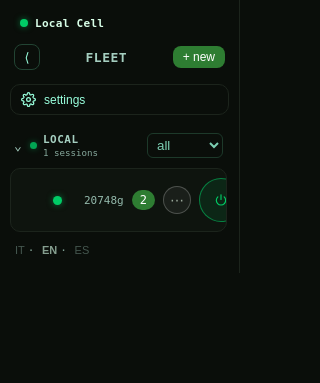
Test case: Menu azioni (⋯) nella riga sidebar › la voce Live dice Togli quando la cella È host, e l'esito finisce in striscia
Click the button named "Cell actions: Local Cell". click: (177, 200)
box: [163, 186, 191, 214]
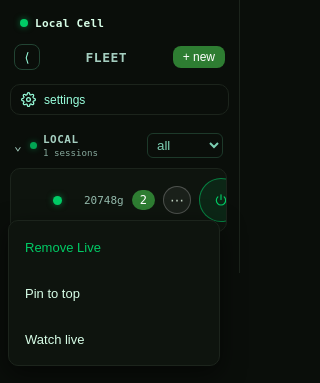
Click the menu item "Remove Live". click: (114, 247)
box: [13, 225, 215, 269]
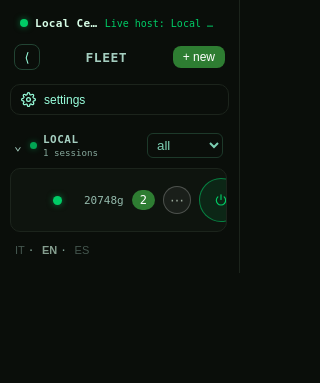
Check: the text "Live host: Local Cell" is shown, box [105, 18, 219, 28]
